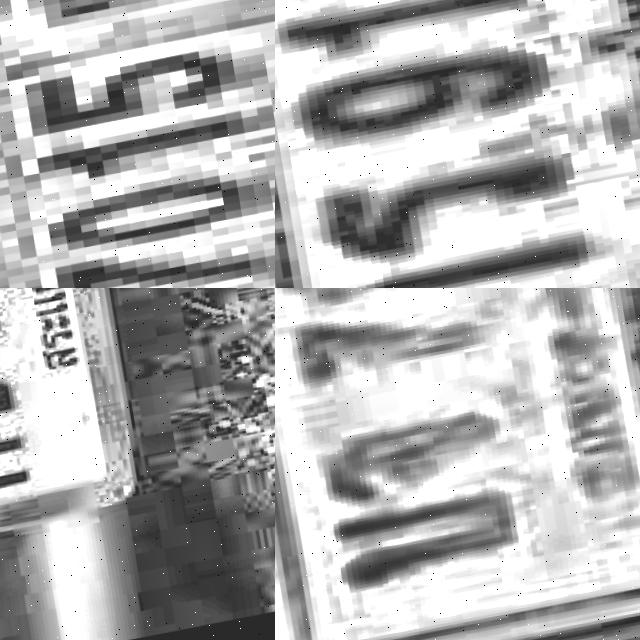license-plate: (275, 288, 640, 640), (275, 0, 640, 288), (0, 0, 275, 288), (0, 288, 138, 558)
